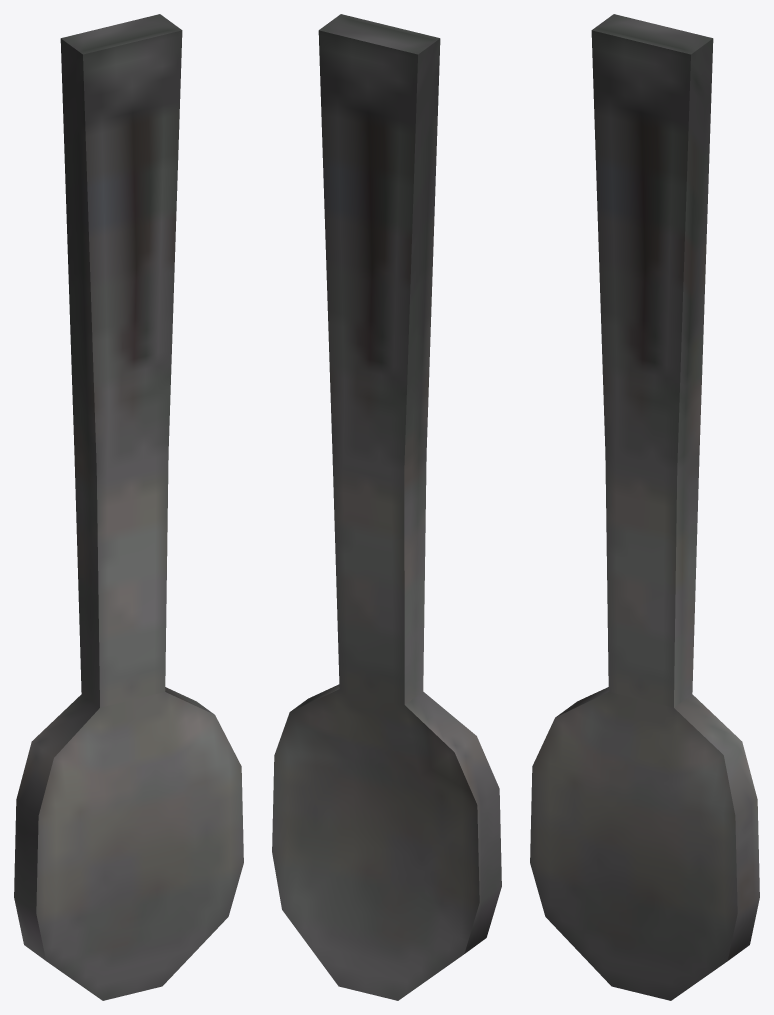
File: MSHCOL_.fbx
3 views of the same model, side by side, from view 1: azimuth 30°, elevation 25°; view 2: azimuth 150°, elevation 25°; view 3: azimuth 330°, elevation 25° (orthographic).
Parts seen in each view (by area): view 1: MSHCOL_; view 2: MSHCOL_; view 3: MSHCOL_.
Part boxes in pixels (box(x1,y1,x2,y2)): MSHCOL_: box(14, 14, 243, 1000); MSHCOL_: box(272, 14, 501, 1000); MSHCOL_: box(530, 14, 759, 1000).
Bounding box in the file's own units: 0.257 × 1.12 × 0.0638.
